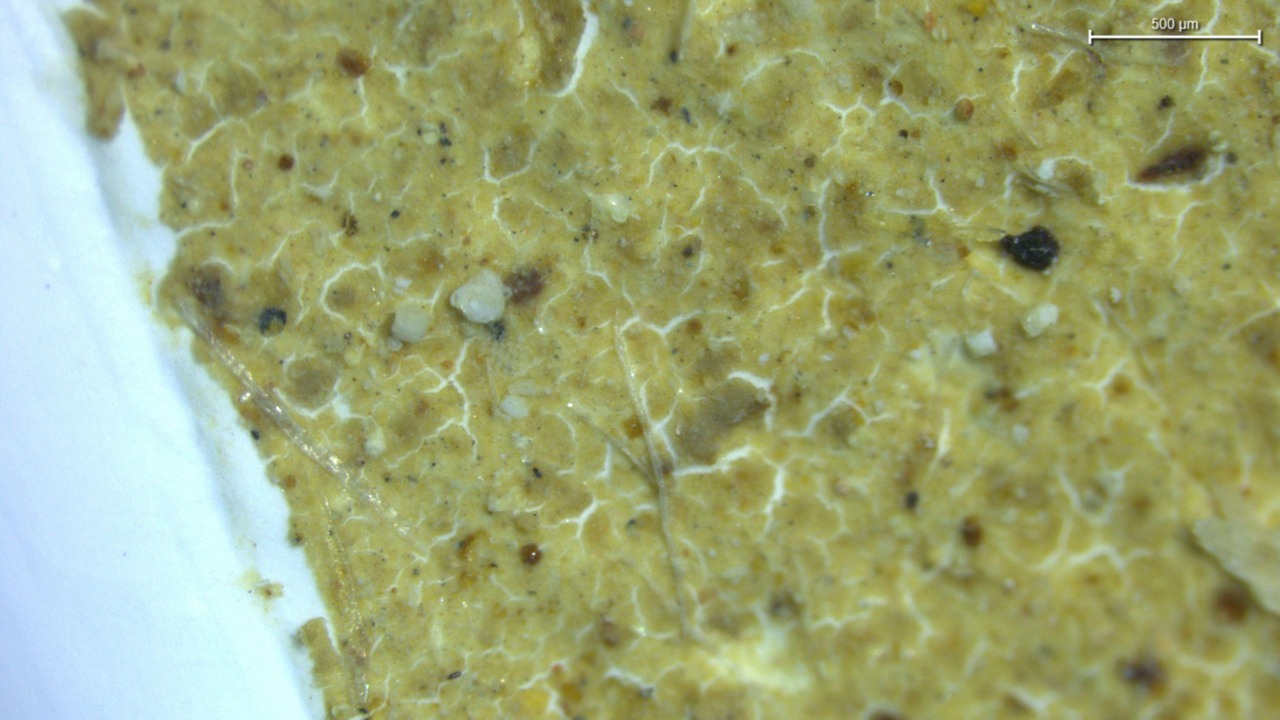microplastic_fragment: (450, 269, 506, 324), (391, 305, 431, 343)
